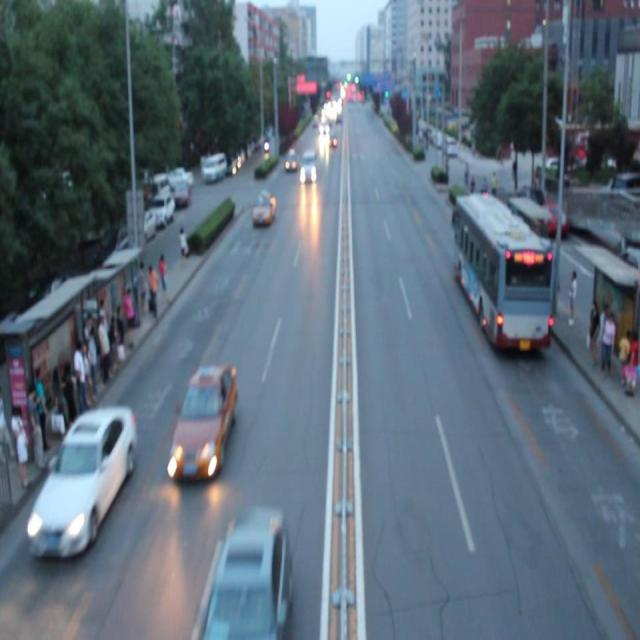car: (29, 404, 138, 560), (204, 505, 289, 640), (169, 358, 238, 486), (250, 186, 276, 231), (280, 144, 298, 174)
truck: (301, 148, 317, 186)
van: (450, 190, 551, 360)
